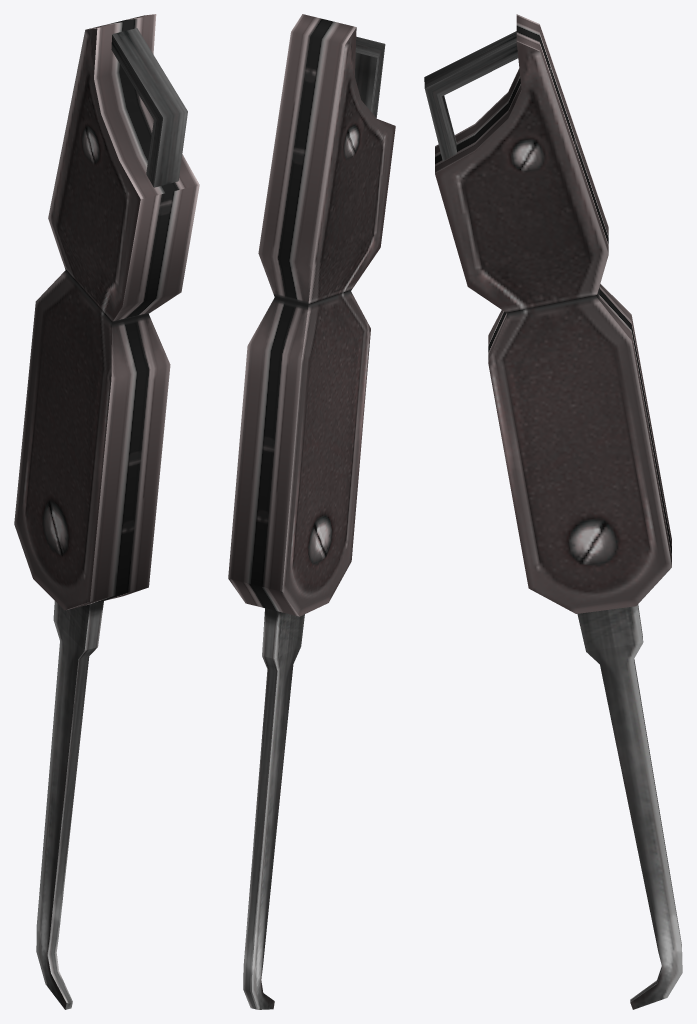
Rendered from PickingTool_withanimation_Shorter2.FBX.
3 views of the same model, side by side, from view 1: azimuth 30°, elevation 25°; view 2: azimuth 150°, elevation 25°; view 3: azimuth 270°, elevation 25° (orthographic). The views are drawn at different scales.
Visible parts, largest first — view 1: Cylinder08; view 2: Cylinder08; view 3: Cylinder08.
Boxes of the visible parts, x1,y1,x2,y2 form: Cylinder08: [14, 14, 199, 1009]; Cylinder08: [228, 14, 395, 1009]; Cylinder08: [424, 14, 682, 1009].
Bounding box in the file's own units: 124 × 2030 × 485.
